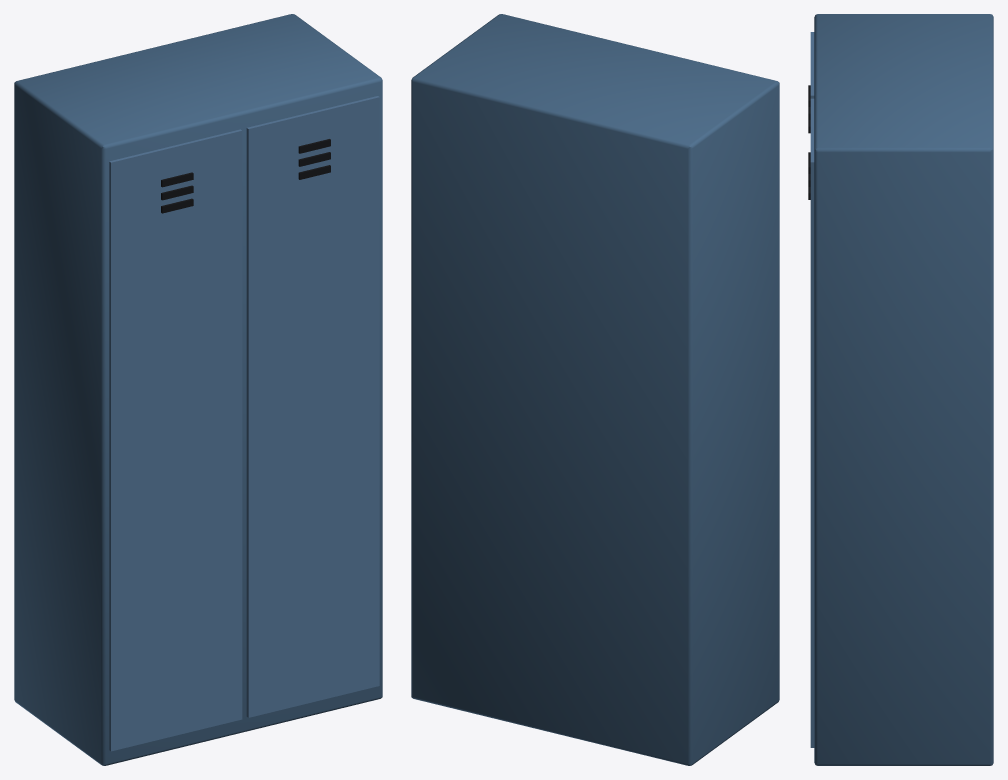
Rendered from locker.glb.
The picture shows the model from 3 angles, left to right: view 1: azimuth 30°, elevation 25°; view 2: azimuth 150°, elevation 25°; view 3: azimuth 270°, elevation 25°; orthographic projection.
Parts seen in each view (by area): view 1: locker; view 2: locker; view 3: locker.
Boxes of the visible parts, left/top/right/bottom form: locker: left=14, top=14, right=382, bottom=765; locker: left=411, top=14, right=779, bottom=765; locker: left=808, top=14, right=993, bottom=765.
Bounding box in the file's own units: 0.9 × 1.9 × 0.517.
